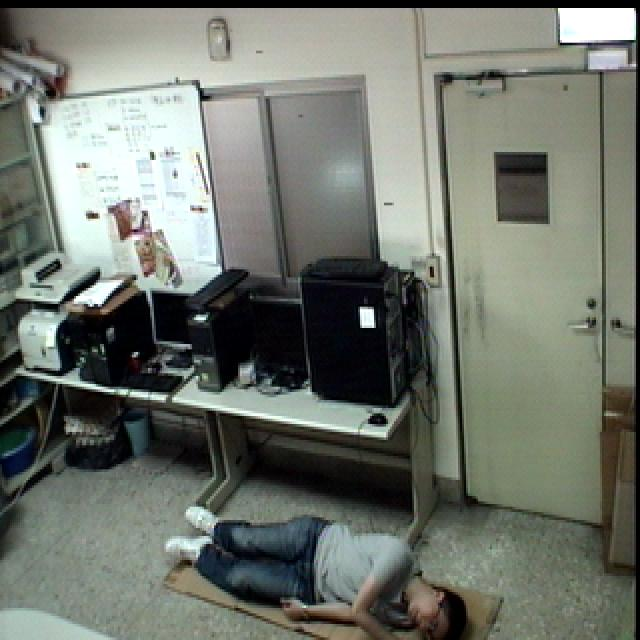lie: (164, 486, 482, 640)
